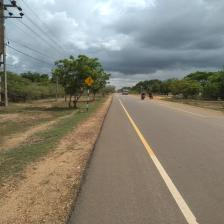yellowboard: (81, 73, 98, 87)
